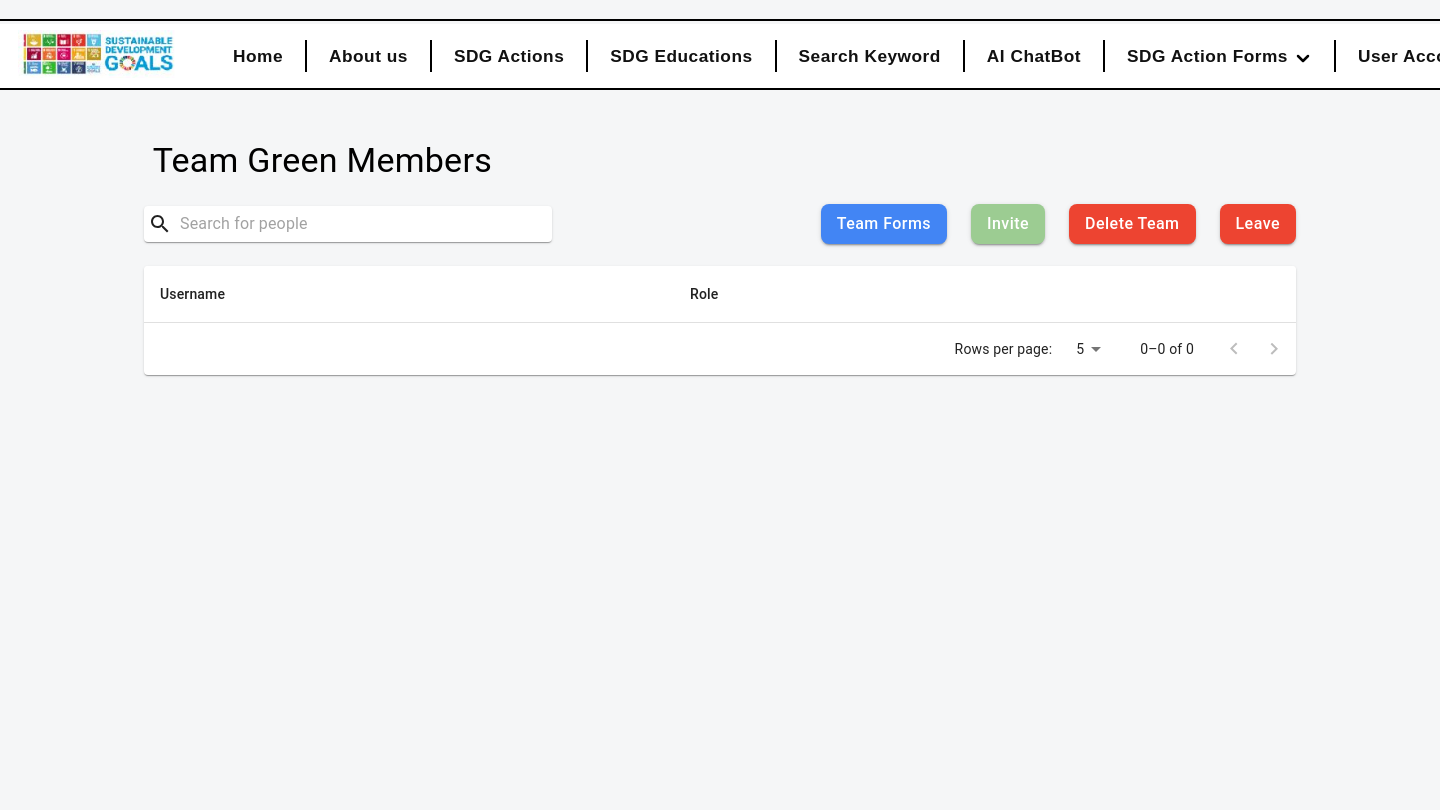
Team › should have invite modal
The width and height of the screenshot is (1440, 810).
Click the button "Invite".
click(1008, 224)  # box [971,204,1045,244]
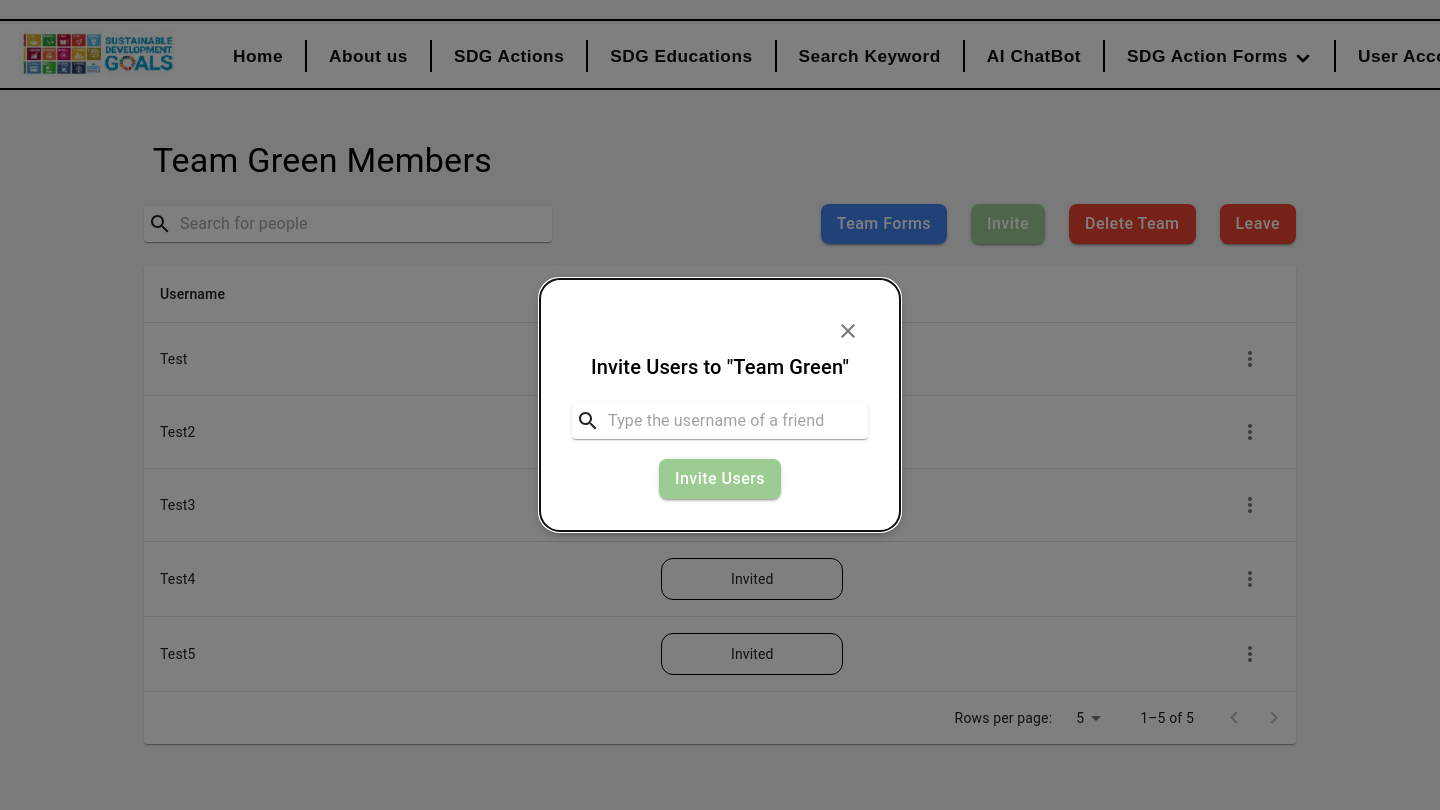
expect the heading "Invite Users to \"Team Green\"" is shown: met, box [572,351,868,383]
expect the field with placeholder "Type the username of a friend" is shown: met, box [608,405,864,437]
expect the button "Invite Users" is shown: met, box [659,459,781,499]
